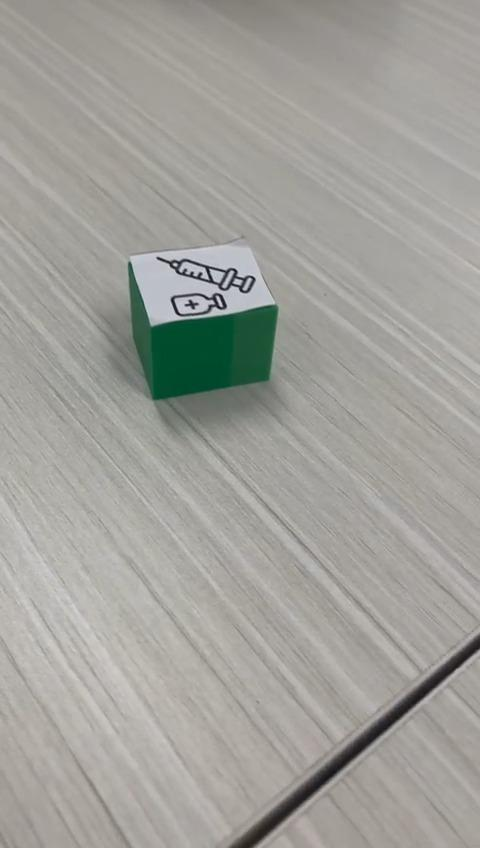antiseptic cream: (125, 234, 279, 401)
